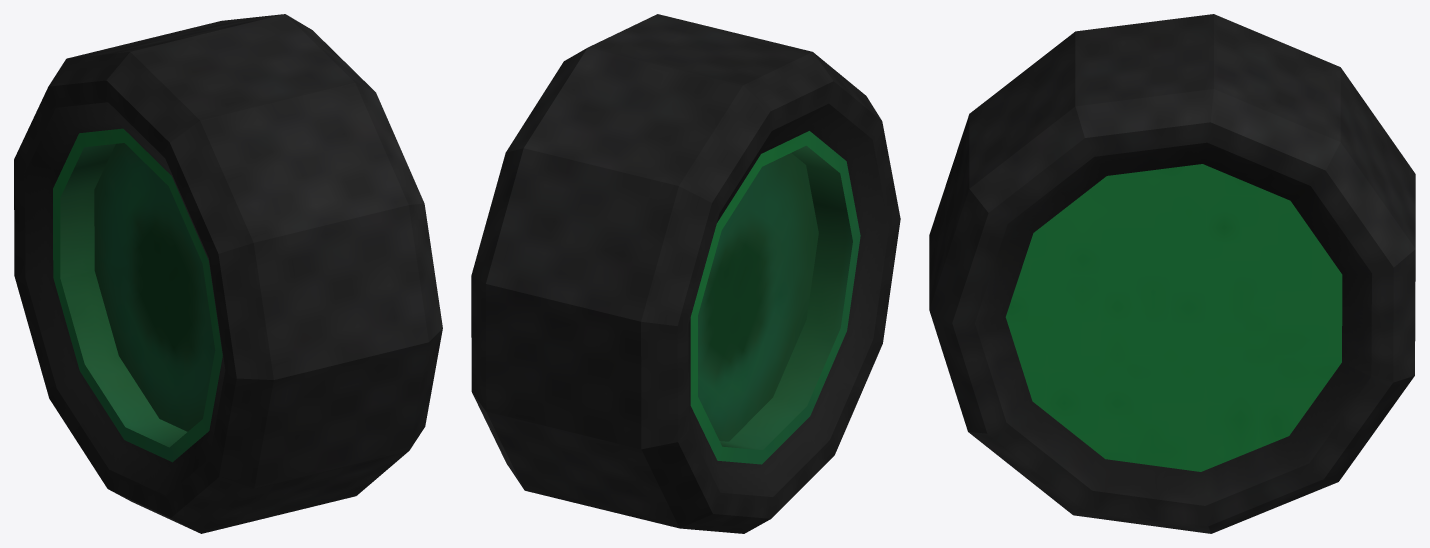
File: Wheel.fbx
The picture shows the model from 3 angles, left to right: view 1: azimuth 30°, elevation 25°; view 2: azimuth 150°, elevation 25°; view 3: azimuth 270°, elevation 25°; orthographic projection.
Visible parts, largest first — view 1: Iron; view 2: Iron; view 3: Iron.
Boxes of the visible parts, <box> form: Iron: <box>14,14,442,533</box>; Iron: <box>471,14,900,533</box>; Iron: <box>929,14,1415,533</box>.
Bounding box in the file's own units: 5.36 × 11.15 × 11.05.
